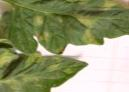Tomato mold leaf: (0, 0, 129, 55), (0, 50, 91, 92)
